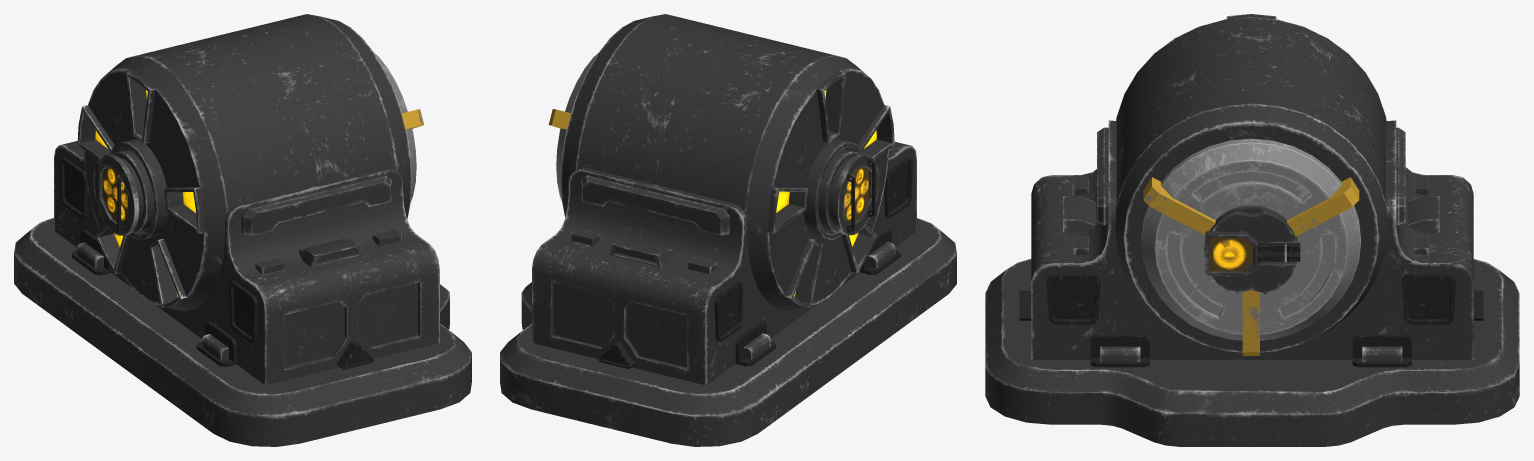
File: Batery1.fbx
3 views of the same model, side by side, from view 1: azimuth 30°, elevation 25°; view 2: azimuth 150°, elevation 25°; view 3: azimuth 270°, elevation 25° (orthographic). The views are drawn at different scales.
Parts seen in each view (by area): view 1: Circle, Cube.004, Circle.001, Cube.005, Circle.004, Cube.012, Cube.008, Cube.006, Cube.011, Circle.002, Cube.007, Cube.010 (+1 smaller); view 2: Circle, Cube.004, Circle.001, Circle.004, Cube.005, Cube.012, Cube.008, Cube.006, Cube.011, Circle.002, Cube.007, Cube.010 (+1 smaller); view 3: Cube.004, Circle, Circle.001, Circle.002, Cube.012, Cube.003, Circle.003, Cube.008, Cube.006, Cube, Cube.005, Cube.011 (+3 smaller).
Part boxes in pixels (x1,y1,x2,y2): Circle: (77, 14, 411, 311); Cube.004: (14, 217, 471, 446); Circle.001: (54, 141, 439, 385); Cube.005: (241, 174, 391, 235); Circle.004: (93, 149, 153, 235); Cube.012: (59, 157, 257, 343); Cube.008: (71, 230, 236, 366); Cube.006: (298, 239, 362, 267); Cube.011: (76, 242, 228, 360); Circle.002: (374, 53, 416, 201); Cube.007: (255, 229, 401, 274); Cube.010: (337, 341, 373, 369); Circle: (561, 14, 894, 310); Cube.004: (500, 218, 956, 446); Circle.001: (532, 142, 916, 385); Circle.004: (818, 149, 878, 235); Cube.005: (581, 175, 729, 235); Cube.012: (714, 157, 912, 342); Cube.008: (735, 229, 900, 366); Cube.006: (609, 238, 672, 267); Cube.011: (743, 242, 895, 359); Circle.002: (556, 53, 597, 201); Cube.007: (571, 228, 717, 274); Cube.010: (598, 341, 634, 368); Cube.004: (985, 259, 1519, 446); Circle: (1115, 14, 1387, 352); Circle.001: (1031, 120, 1473, 359); Circle.002: (1141, 138, 1360, 340); Cube.012: (1046, 274, 1455, 324); Cube.003: (1143, 177, 1359, 355); Circle.003: (1204, 205, 1297, 294); Cube.008: (1090, 334, 1411, 367); Cube.006: (1063, 196, 1439, 232); Cube: (1205, 230, 1257, 275); Cube.005: (1097, 127, 1405, 225); Cube.011: (1100, 346, 1402, 362).
Size of the model in its own units: 478 by 433 by 693.
